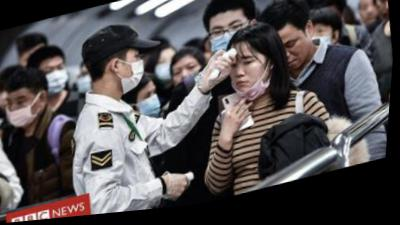NONE: (268, 36, 310, 82), (172, 62, 207, 99), (303, 30, 335, 63), (358, 4, 385, 36), (373, 1, 393, 34)
OK: (207, 19, 253, 66), (117, 49, 151, 97), (134, 87, 166, 128), (40, 59, 73, 98), (153, 55, 183, 88), (76, 66, 96, 97)
WRONG: (226, 49, 273, 104), (6, 89, 43, 132)
